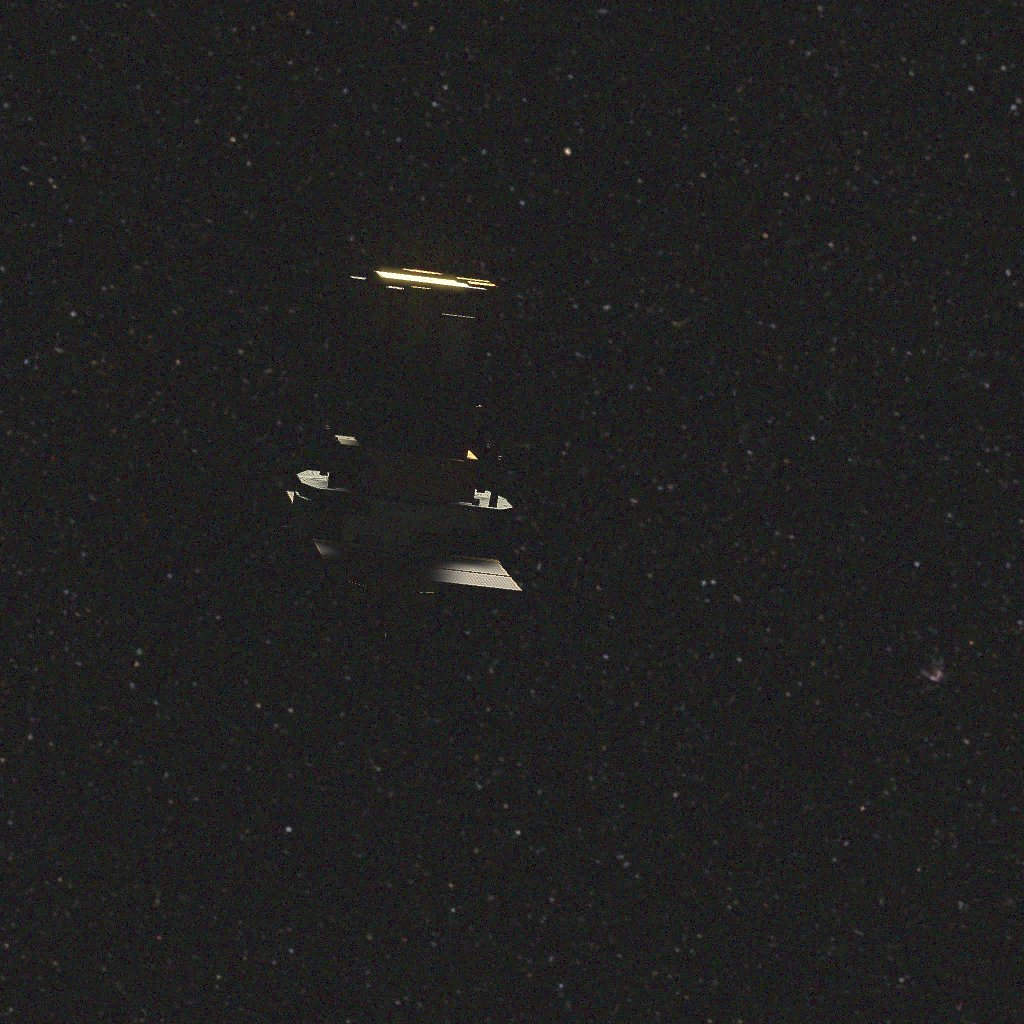soho: (261, 269, 522, 639)
